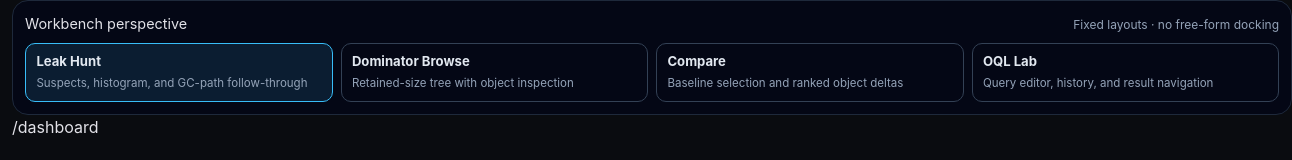
Test: PerspectiveSwitcher › applies a named perspective and switches to another fixed layout
Expected: the heading "Workbench perspective" is shown, [25,13,187,35]
Click the button "Dominator Browse Retained-size tree with object inspection". click: point(411, 61)
box: [340,43,648,102]
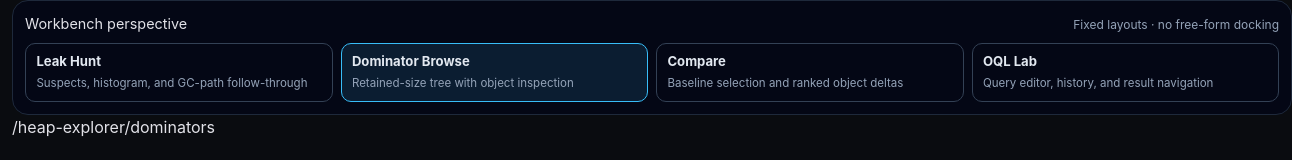
Result: the text named "Current route" reads "/heap-explorer/dominators" at [12,117,215,137]
Click the button "OQL Lab Query editor, history, and result navigation". click: point(1010, 61)
box: [972,43,1279,102]
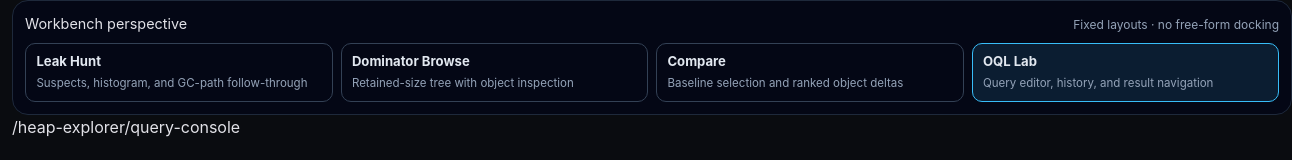
Result: the text named "Current route" reads "/heap-explorer/query-console" at [12,117,240,137]
